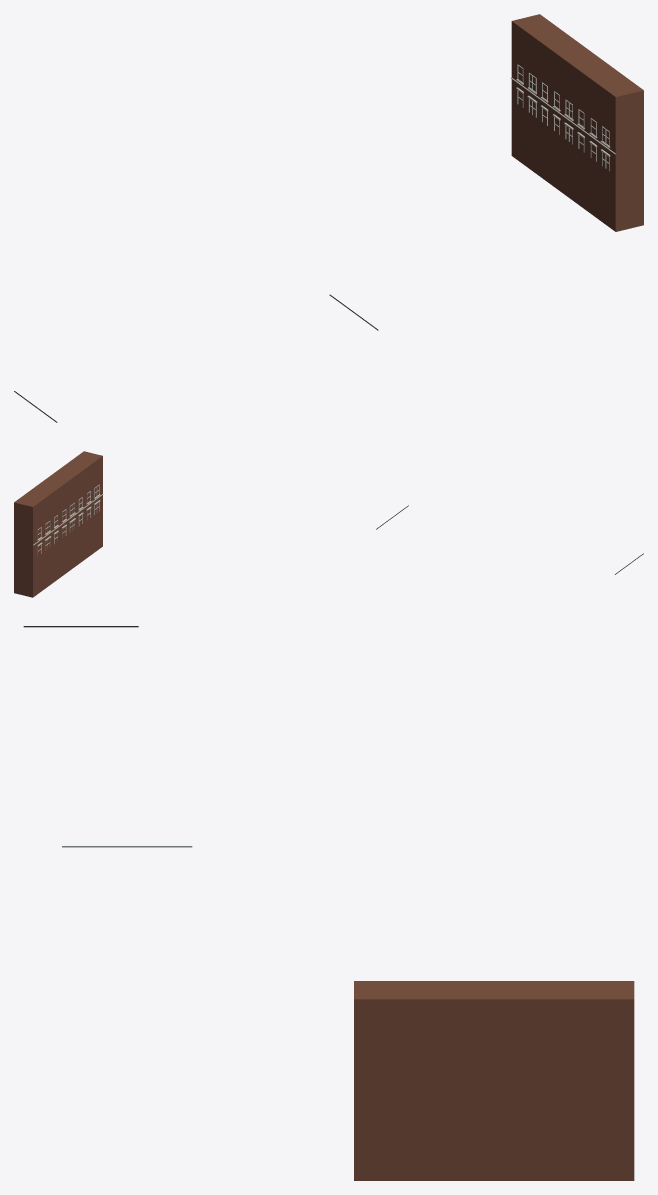
Rendered from SM_L3_Exterior_Solid_e568fbe43f_0.fbx.
3 renders of one model, top to bottom at view 1: azimuth 30°, elevation 25°; view 2: azimuth 150°, elevation 25°; view 3: azimuth 270°, elevation 25°, orthographic. The views are drawn at different scales.
Visible parts, largest first — view 1: SM_L3_Exterior_Solid_e568fbe43f_0; view 2: SM_L3_Exterior_Solid_e568fbe43f_0; view 3: SM_L3_Exterior_Solid_e568fbe43f_0.
Part boxes in pixels (<box>): SM_L3_Exterior_Solid_e568fbe43f_0: <box>14,14,643,422</box>; SM_L3_Exterior_Solid_e568fbe43f_0: <box>14,451,643,597</box>; SM_L3_Exterior_Solid_e568fbe43f_0: <box>23,626,634,1180</box>.
Bounding box in the file's own units: 101 × 55.8 × 18.3.
